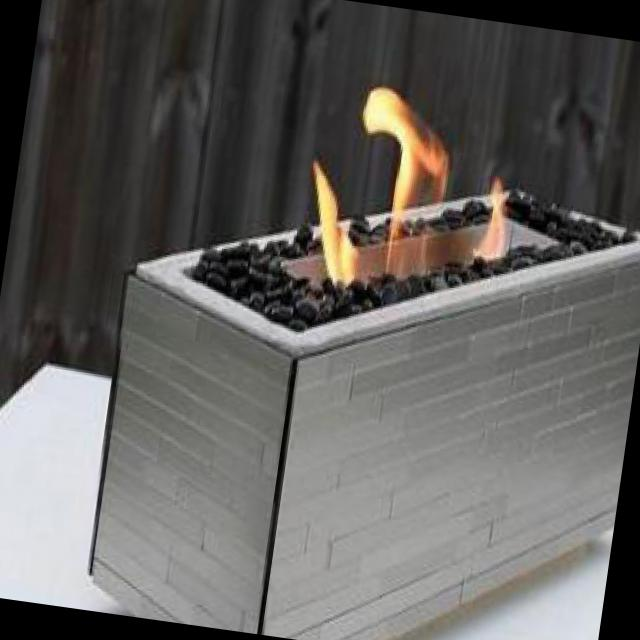fire: (303, 43, 532, 324)
